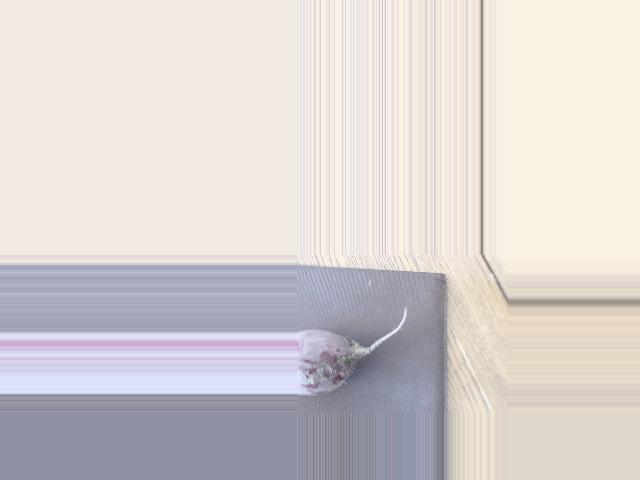beet: (297, 307, 407, 395)
